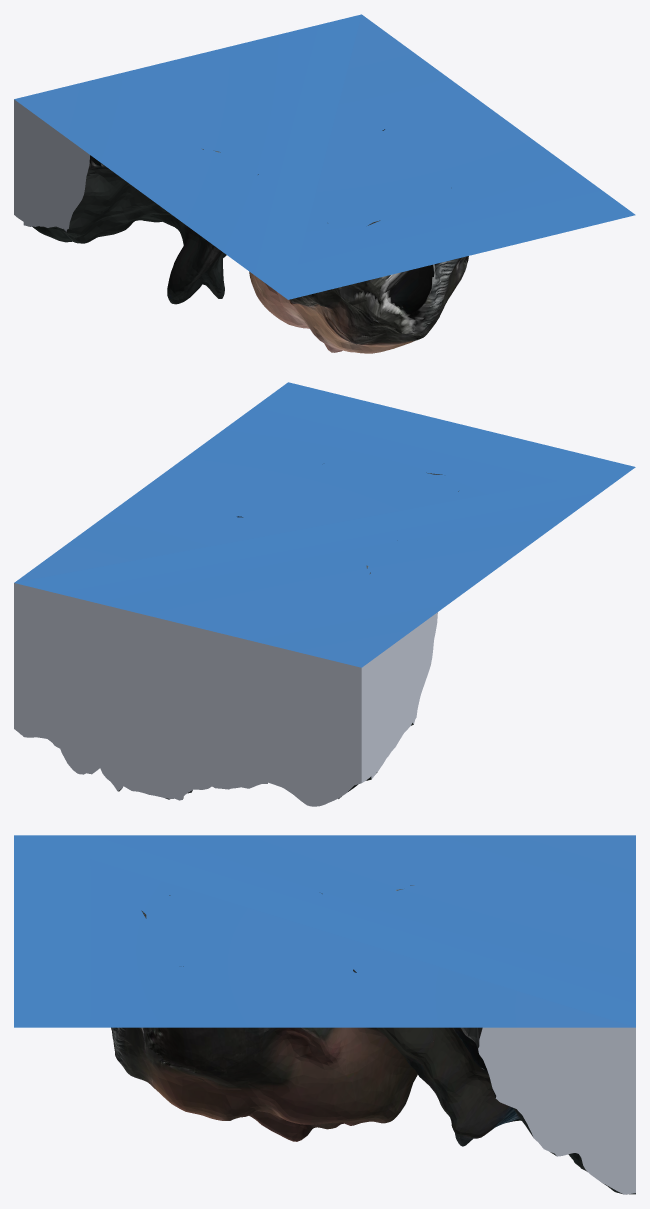
Rendered from cut_mesh.obj.
3 views of the same model, one above another, from view 1: azimuth 30°, elevation 25°; view 2: azimuth 150°, elevation 25°; view 3: azimuth 270°, elevation 25° (orthographic). The views are drawn at different scales.
Bounding box in the file's own units: 36.81 × 18.82 × 50.28.
1 material, 1 textured.
